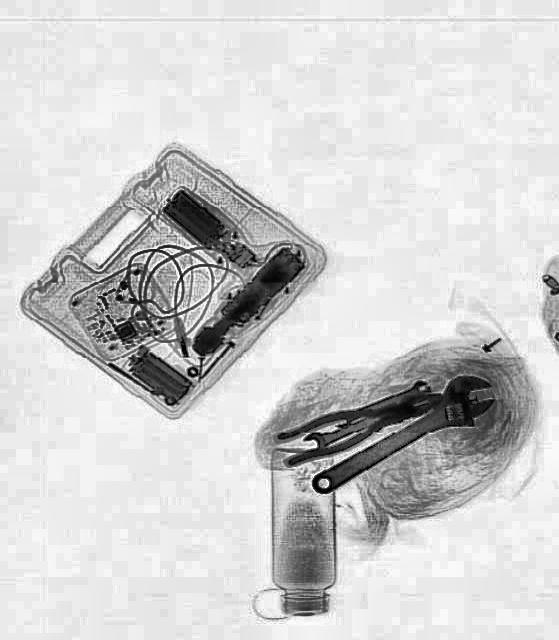Pliers: (274, 378, 448, 468)
Wrench: (301, 362, 503, 512), (332, 376, 430, 429), (300, 404, 388, 456)
